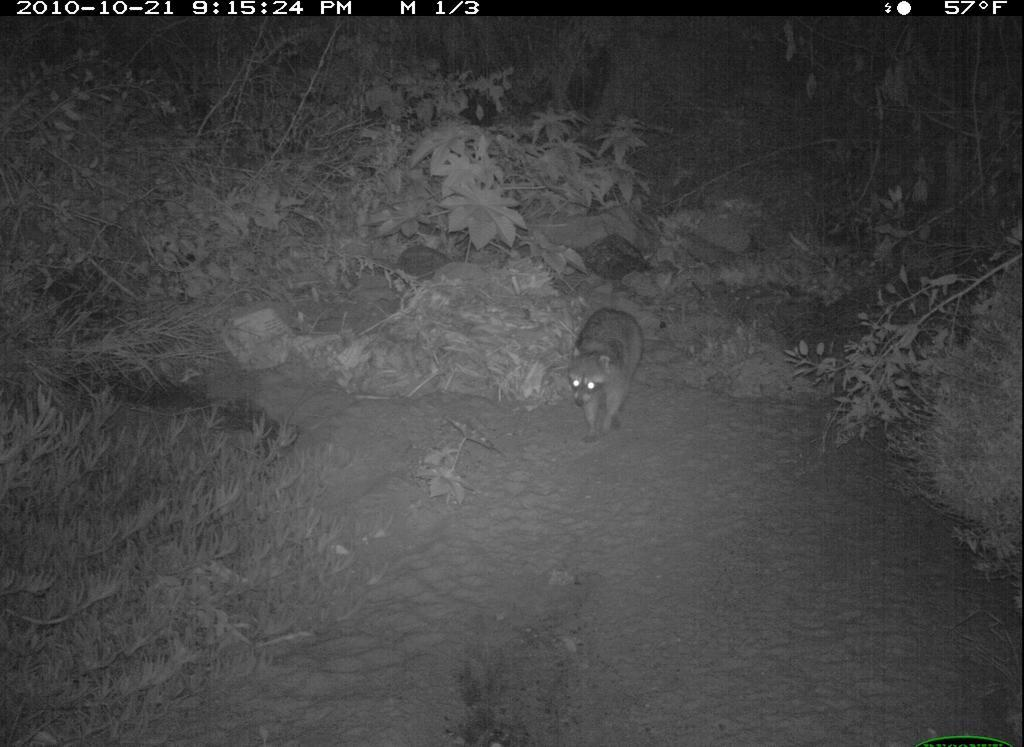raccoon: (557, 303, 665, 451)
